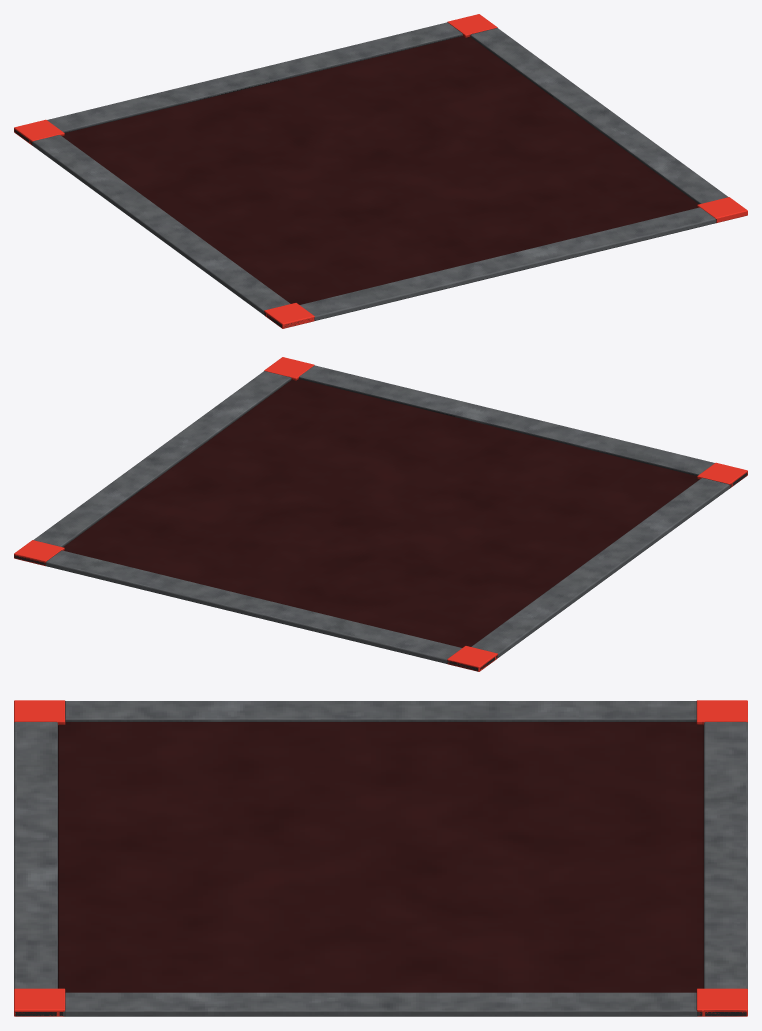
Rendered from arena_city_frenzy.glb.
The picture shows the model from 3 angles, top to bottom: view 1: azimuth 30°, elevation 25°; view 2: azimuth 150°, elevation 25°; view 3: azimuth 270°, elevation 25°; orthographic projection. The views are drawn at different scales.
Visible parts, largest first — view 1: arena_city_frenzy.002; view 2: arena_city_frenzy.002; view 3: arena_city_frenzy.002.
Boxes of the visible parts, <box> form: arena_city_frenzy.002: <box>14,14,747,328</box>; arena_city_frenzy.002: <box>14,357,747,671</box>; arena_city_frenzy.002: <box>14,700,747,1016</box>.
Size of the model in its own units: 2 by 0.022 by 2.
3 materials, 3 textured.
